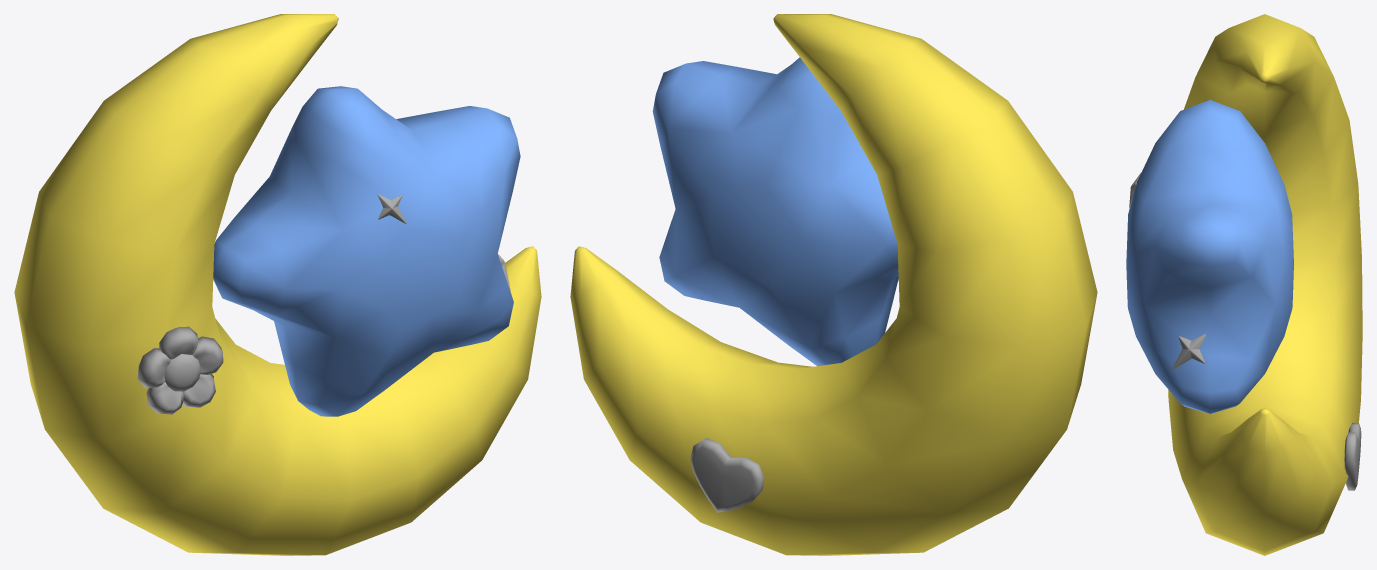
File: Moon.fbx
The picture shows the model from 3 angles, left to right: view 1: azimuth 30°, elevation 25°; view 2: azimuth 150°, elevation 25°; view 3: azimuth 270°, elevation 25°; orthographic projection. The views are drawn at different scales.
Parts seen in each view (by area): view 1: S_Moon, D_Moon_5, D_Moon_3, D_Moon_1, D_Moon_6, D_Moon_2, D_Moon_4; view 2: S_Moon, D_Moon_; view 3: S_Moon, D_Moon_, D_Oai_32.
Boxes of the visible parts, left/top/right/bottom form: S_Moon: left=14, top=14, right=541, bottom=555; D_Moon_5: left=164, top=354, right=200, bottom=391; D_Moon_3: left=137, top=348, right=170, bottom=388; D_Moon_1: left=159, top=326, right=198, bottom=359; D_Moon_6: left=146, top=382, right=183, bottom=414; D_Moon_2: left=192, top=336, right=223, bottom=374; D_Moon_4: left=182, top=374, right=215, bottom=407; S_Moon: left=570, top=14, right=1097, bottom=555; D_Moon_: left=690, top=437, right=764, bottom=512; S_Moon: left=1126, top=14, right=1362, bottom=555; D_Moon_: left=1344, top=422, right=1361, bottom=490; D_Oai_32: left=1172, top=334, right=1205, bottom=369.
Bounding box in the file's own units: 545 × 550 × 245.
